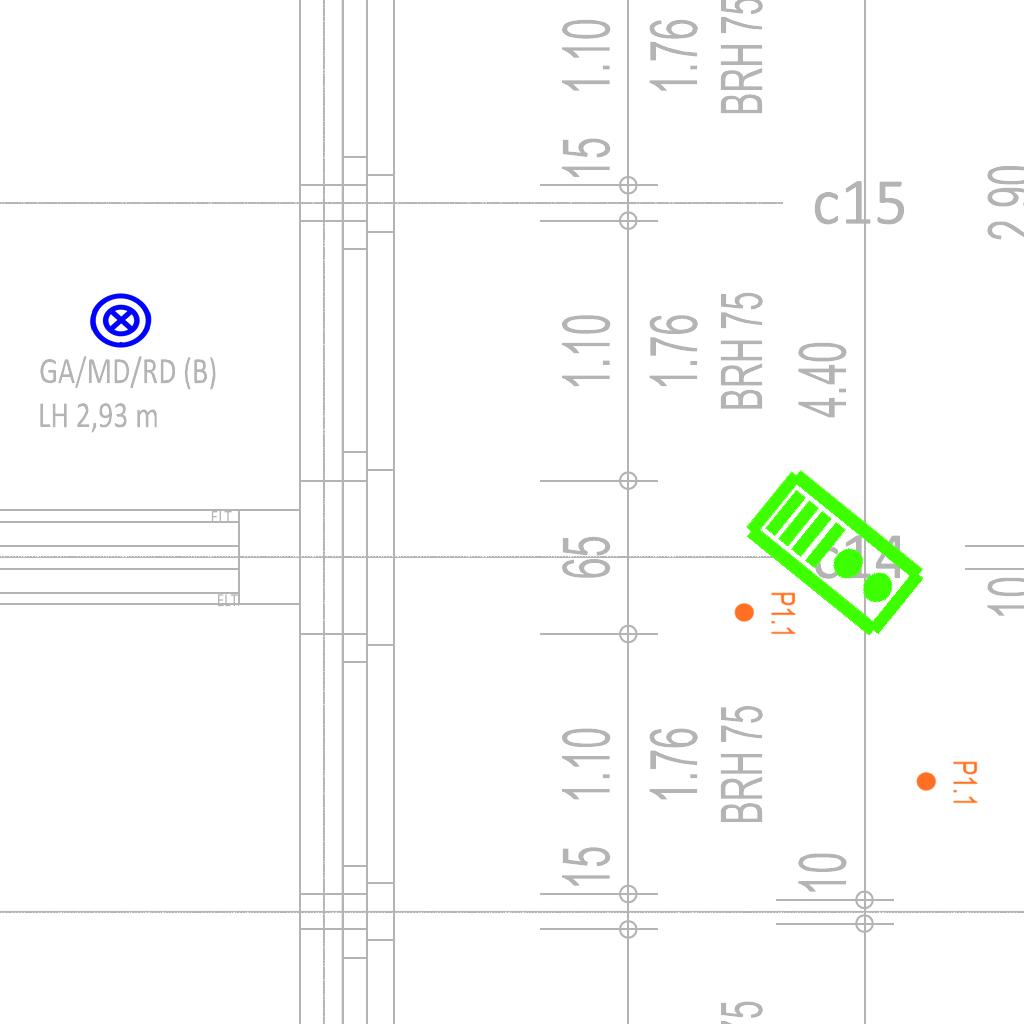Downlight_LED_Einbauleuchten_Flur: (915, 760, 979, 806), (733, 591, 797, 637)
Gegensprechanlage_mit_Video: (738, 459, 935, 645)
Taster_beleuchtet: (87, 286, 155, 354)
